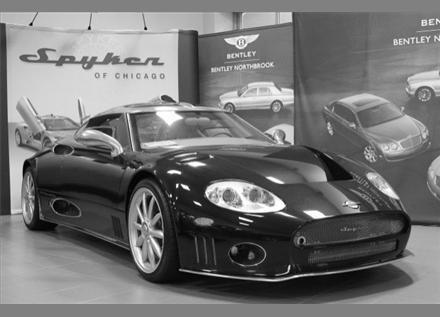car: (21, 93, 419, 297)
